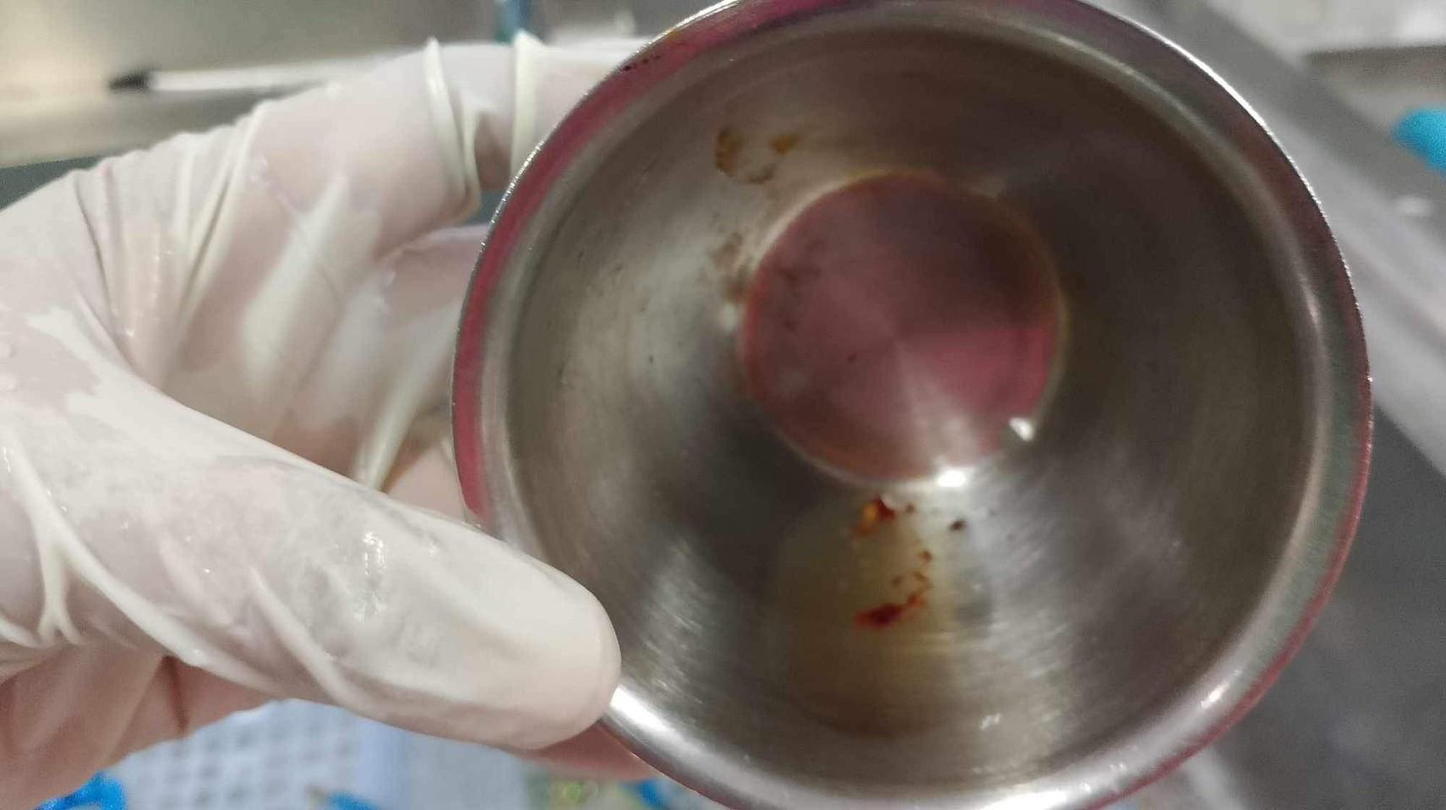General: (444, 2, 1378, 806)
Infectious: (0, 30, 645, 806)
